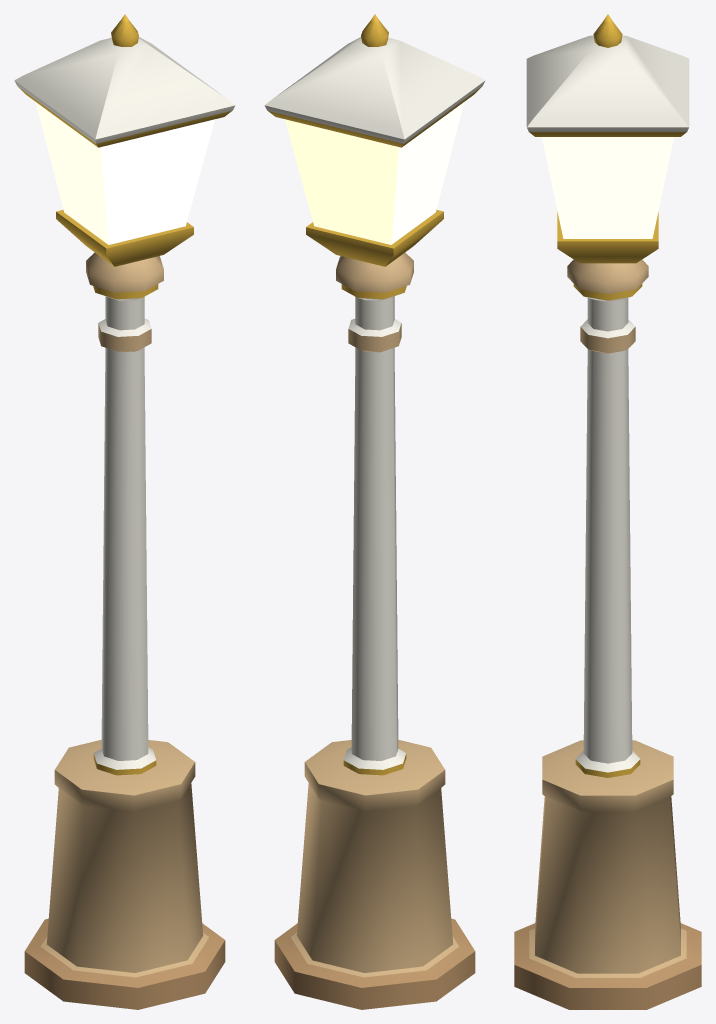
File: lamp-post.lod1.glb
3 renders of one model, left to right at view 1: azimuth 30°, elevation 25°; view 2: azimuth 150°, elevation 25°; view 3: azimuth 270°, elevation 25°, orthographic.
Visible parts, largest first — view 1: lamp-post_lod1; view 2: lamp-post_lod1; view 3: lamp-post_lod1.
Part boxes in pixels (<box>): lamp-post_lod1: <box>14,14,235,1009</box>; lamp-post_lod1: <box>264,14,485,1009</box>; lamp-post_lod1: <box>514,14,701,1009</box>.
Size of the model in its own units: 0.4619 by 2.6 by 0.4619.
